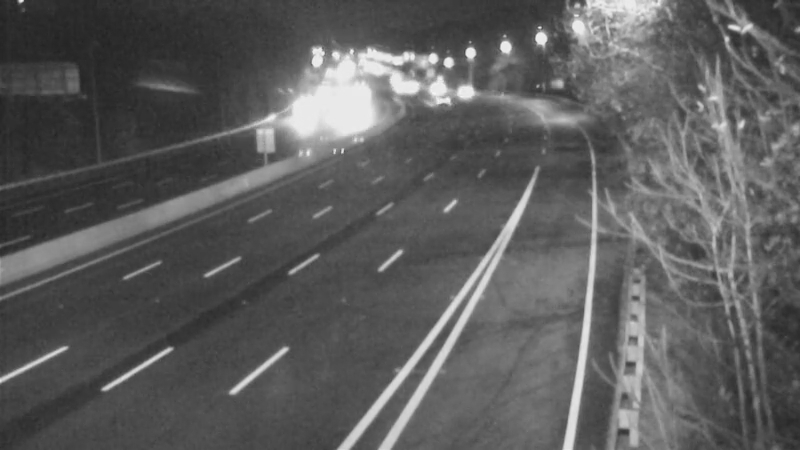vehicle: (442, 66, 492, 116), (412, 78, 462, 128)
